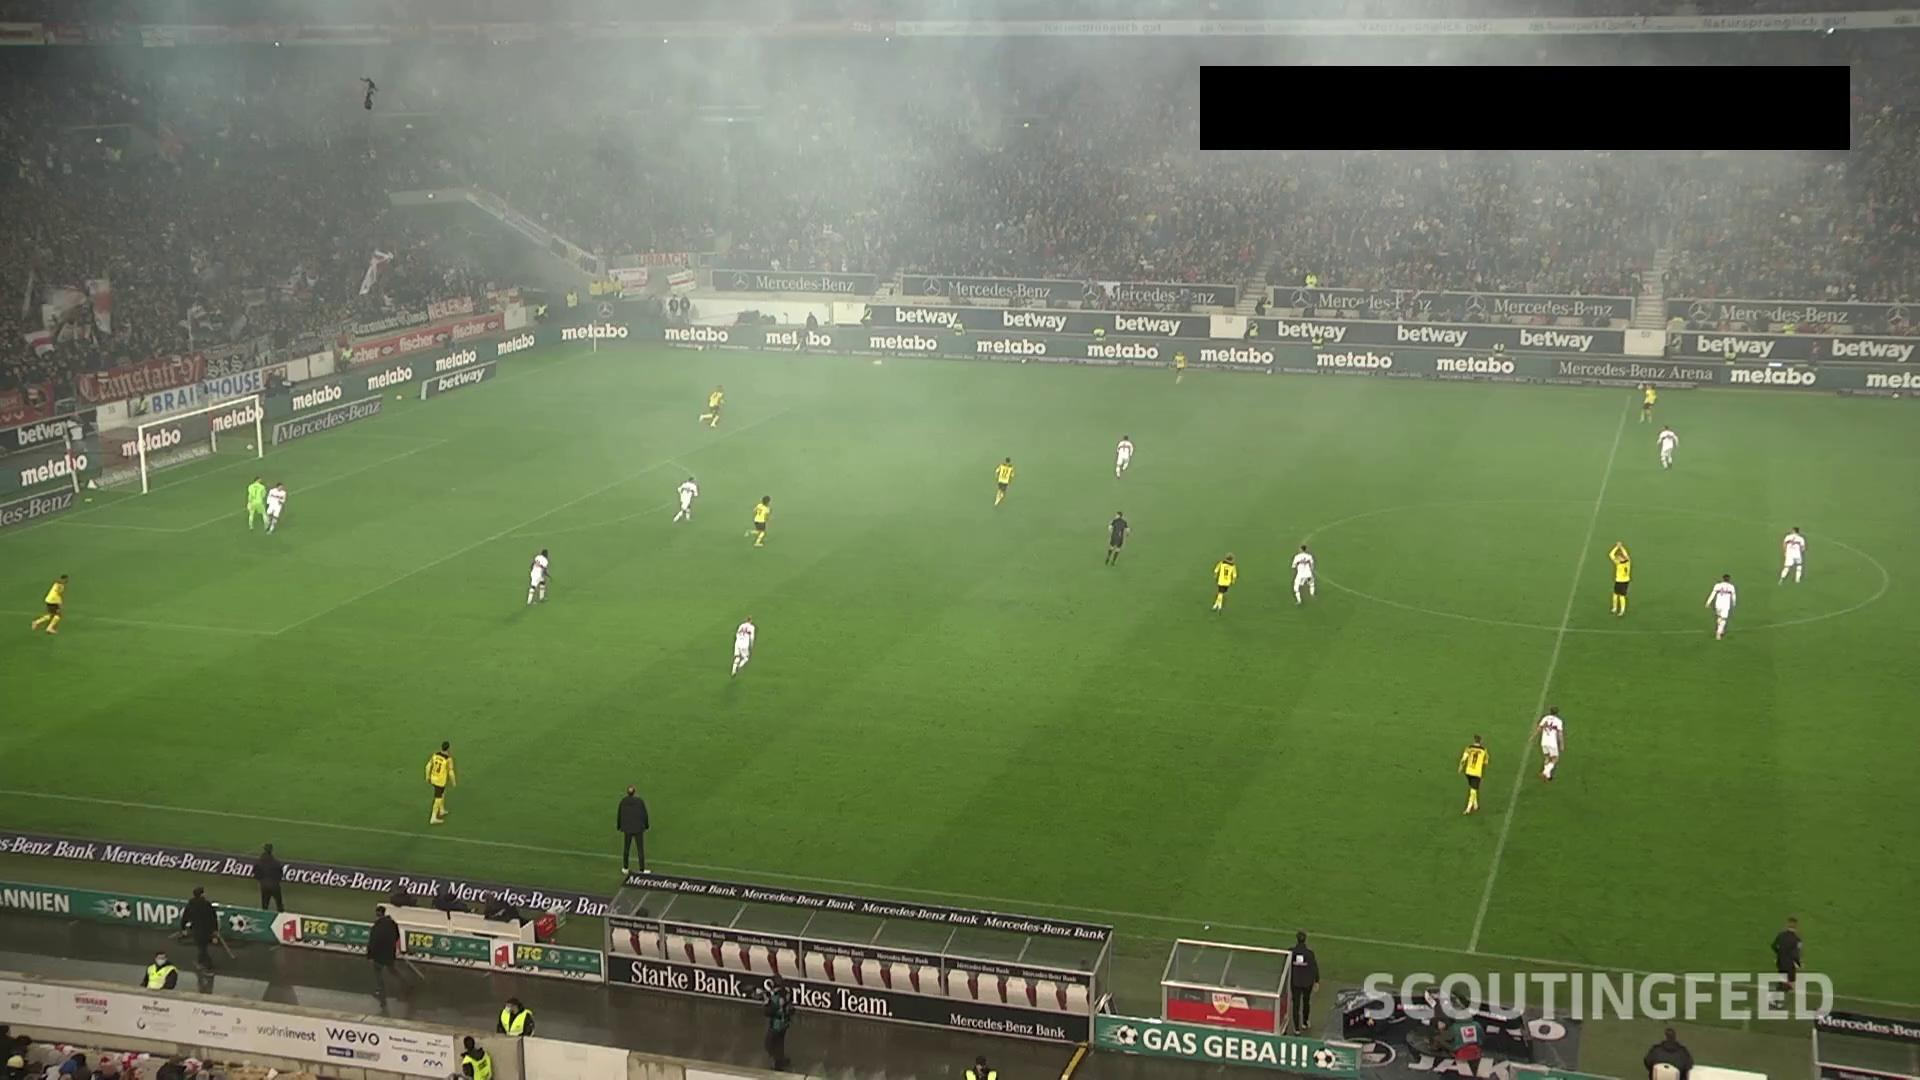Location-of-ball: (870, 352, 895, 372)
